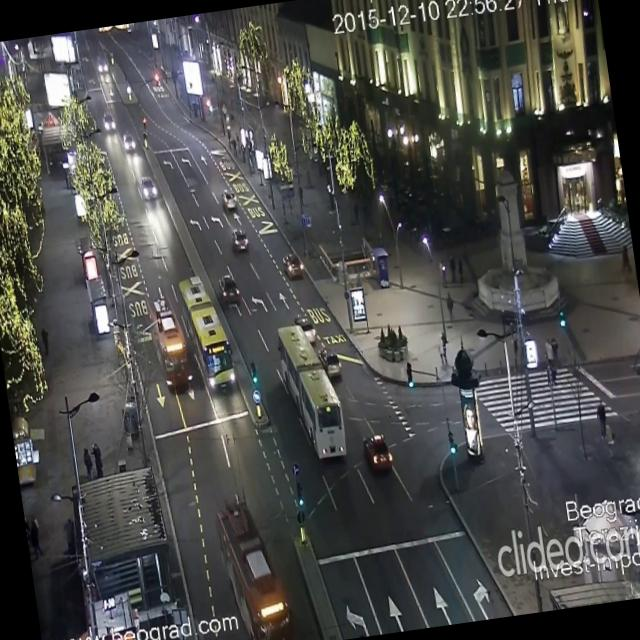bus: (212, 493, 294, 640), (275, 319, 349, 464), (177, 272, 237, 394), (149, 292, 193, 392)
car: (362, 432, 394, 474), (218, 273, 241, 308), (319, 346, 342, 376), (282, 252, 305, 280), (296, 318, 318, 342), (230, 226, 250, 252), (140, 174, 158, 202), (220, 186, 238, 208), (99, 108, 114, 133), (121, 133, 138, 153), (95, 54, 106, 68)
